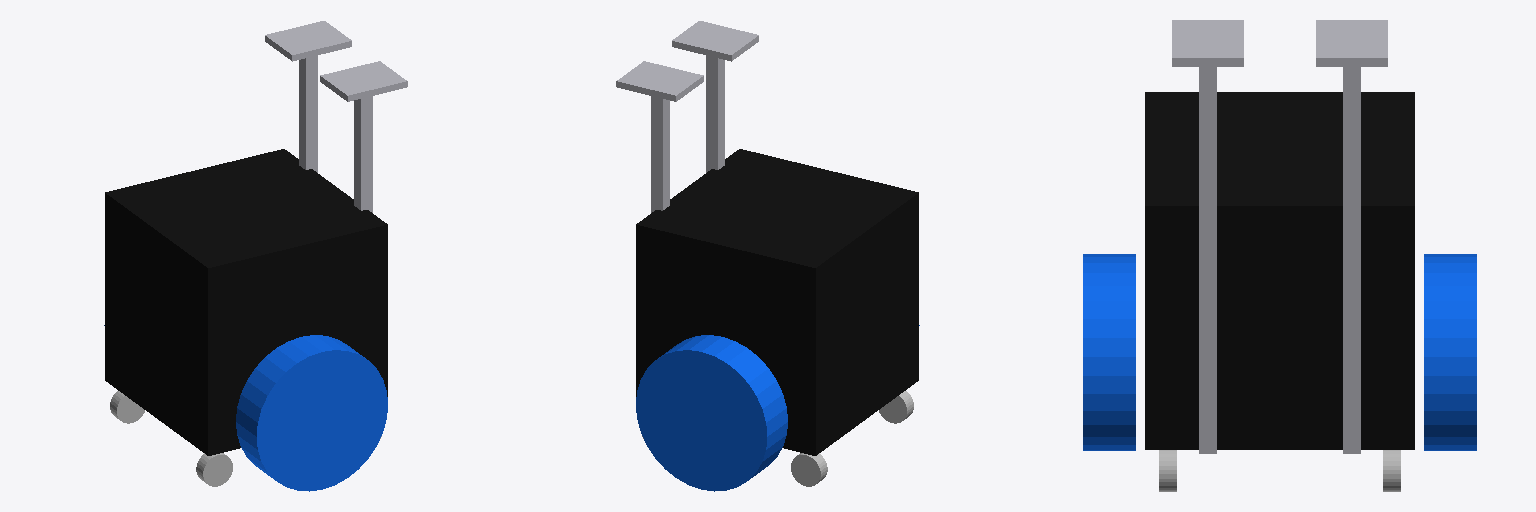
URDF robot description (mobile_base_with_dual_lifts):
<?xml version="1.0"?>
<robot name="mobile_base_with_dual_lifts" xmlns:xacro="http://www.ros.org/wiki/xacro">

  <!-- =========================
       PARAMETERS (hard-coded)
       Base: 0.30 x 0.30 x 0.30 m
       Two front lift columns: 0.50 m tall each
       Wheels: hoverboard style
       ========================= -->

  <!-- MATERIALS -->
  <material name="aluminum">
    <color rgba="0.75 0.75 0.78 1.0"/>
  </material>

  <material name="black">
    <color rgba="0.10 0.10 0.10 1.0"/>
  </material>

  <material name="wheel_blue">
    <color rgba="0.10 0.45 0.95 1.0"/>
  </material>

  <material name="caster_gray">
    <color rgba="0.75 0.75 0.75 1.0"/>
  </material>

  <!-- BASE LINK -->
  <link name="base_link">
    <visual>
      <origin xyz="0 0 0" rpy="0 0 0"/>
      <geometry>
        <box size="0.30 0.30 0.30"/>
      </geometry>
      <material name="black"/>
    </visual>

    <collision>
      <origin xyz="0 0 0" rpy="0 0 0"/>
      <geometry>
        <box size="0.30 0.30 0.30"/>
      </geometry>
    </collision>

    <inertial>
      <origin xyz="0 0 0" rpy="0 0 0"/>
      <mass value="8.0"/>
      <inertia ixx="0.120" ixy="0.0" ixz="0.0" iyy="0.120" iyz="0.0" izz="0.120"/>
    </inertial>
  </link>

  <link name="base_footprint"/>

  <joint name="base_footprint_joint" type="fixed">
    <parent link="base_footprint"/>
    <child link="base_link"/>
    <!-- Keep as-is: base_link center at 0.21m above ground -->
    <origin xyz="0 0 0.21" rpy="0 0 0"/>
  </joint>

  <!-- =========================
       FRONT DUAL LIFT SYSTEM
       ========================= -->

  <!-- LEFT COLUMN CARRIAGE -->
  <link name="lift_left_carriage">
    <visual>
      <origin xyz="0 0 0.25" rpy="0 0 0"/>
      <geometry>
        <box size="0.02 0.02 0.50"/>
      </geometry>
      <material name="aluminum"/>
    </visual>

    <collision>
      <origin xyz="0 0 0.25" rpy="0 0 0"/>
      <geometry>
        <box size="0.02 0.02 0.50"/>
      </geometry>
    </collision>

    <inertial>
      <origin xyz="0 0 0.25" rpy="0 0 0"/>
      <mass value="0.7"/>
      <inertia ixx="0.001" ixy="0.0" ixz="0.0" iyy="0.001" iyz="0.0" izz="0.0002"/>
    </inertial>
  </link>

  <joint name="lift_left_prismatic" type="prismatic">
    <parent link="base_link"/>
    <child link="lift_left_carriage"/>
    <origin xyz="0.15 0.08 -0.15" rpy="0 0 0"/>
    <axis xyz="0 0 1"/>
    <limit lower="0.00" upper="0.40" effort="800" velocity="0.30"/>
    <dynamics damping="10.0" friction="5.0"/>
  </joint>

  <link name="lift_left_mount">
    <visual>
      <origin xyz="0 0 0" rpy="0 0 0"/>
      <geometry>
        <box size="0.10 0.08 0.01"/>
      </geometry>
      <material name="aluminum"/>
    </visual>

    <collision>
      <origin xyz="0 0 0" rpy="0 0 0"/>
      <geometry>
        <box size="0.10 0.08 0.01"/>
      </geometry>
    </collision>

    <inertial>
      <origin xyz="0 0 0" rpy="0 0 0"/>
      <mass value="0.3"/>
      <inertia ixx="0.0002" ixy="0.0" ixz="0.0" iyy="0.0002" iyz="0.0" izz="0.0003"/>
    </inertial>
  </link>

  <joint name="lift_left_mount_fixed" type="fixed">
    <parent link="lift_left_carriage"/>
    <child link="lift_left_mount"/>
    <origin xyz="0 0 0.50" rpy="0 0 0"/>
  </joint>

  <link name="jso800_left_base_frame"/>
  <joint name="jso800_left_base_fixed" type="fixed">
    <parent link="lift_left_mount"/>
    <child link="jso800_left_base_frame"/>
    <origin xyz="0.00 0.00 0.02" rpy="0 0 0"/>
  </joint>

  <!-- RIGHT COLUMN CARRIAGE -->
  <link name="lift_right_carriage">
    <visual>
      <origin xyz="0 0 0.25" rpy="0 0 0"/>
      <geometry>
        <box size="0.02 0.02 0.50"/>
      </geometry>
      <material name="aluminum"/>
    </visual>

    <collision>
      <origin xyz="0 0 0.25" rpy="0 0 0"/>
      <geometry>
        <box size="0.02 0.02 0.50"/>
      </geometry>
    </collision>

    <inertial>
      <origin xyz="0 0 0.25" rpy="0 0 0"/>
      <mass value="0.7"/>
      <inertia ixx="0.001" ixy="0.0" ixz="0.0" iyy="0.001" iyz="0.0" izz="0.0002"/>
    </inertial>
  </link>

  <joint name="lift_right_prismatic" type="prismatic">
    <parent link="base_link"/>
    <child link="lift_right_carriage"/>
    <origin xyz="0.15 -0.08 -0.15" rpy="0 0 0"/>
    <axis xyz="0 0 1"/>
    <limit lower="0.00" upper="0.40" effort="800" velocity="0.30"/>
    <dynamics damping="10.0" friction="5.0"/>
  </joint>

  <link name="lift_right_mount">
    <visual>
      <origin xyz="0 0 0" rpy="0 0 0"/>
      <geometry>
        <box size="0.10 0.08 0.01"/>
      </geometry>
      <material name="aluminum"/>
    </visual>

    <collision>
      <origin xyz="0 0 0" rpy="0 0 0"/>
      <geometry>
        <box size="0.10 0.08 0.01"/>
      </geometry>
    </collision>

    <inertial>
      <origin xyz="0 0 0" rpy="0 0 0"/>
      <mass value="0.3"/>
      <inertia ixx="0.0002" ixy="0.0" ixz="0.0" iyy="0.0002" iyz="0.0" izz="0.0003"/>
    </inertial>
  </link>

  <joint name="lift_right_mount_fixed" type="fixed">
    <parent link="lift_right_carriage"/>
    <child link="lift_right_mount"/>
    <origin xyz="0 0 0.50" rpy="0 0 0"/>
  </joint>

  <link name="jso800_right_base_frame"/>
  <joint name="jso800_right_base_fixed" type="fixed">
    <parent link="lift_right_mount"/>
    <child link="jso800_right_base_frame"/>
    <origin xyz="0.00 0.00 0.02" rpy="0 0 0"/>
  </joint>

  <!-- =========================
       MOBILE BASE WHEELS
       Hoverboard-style drive wheels + 4 caster wheels
       ========================= -->

  <!-- ========= DRIVE WHEELS (2) ========= -->
  <!-- Hoverboard wheel size: radius=0.11 (≈22cm diameter), length=0.06 -->
  <link name="wheel_left">
    <visual>
      <origin xyz="0 0 0" rpy="-1.57079632679 0 0"/>
      <geometry>
        <cylinder radius="0.11" length="0.06"/>
      </geometry>
      <material name="wheel_blue"/>
    </visual>

    <collision>
      <origin xyz="0 0 0" rpy="-1.57079632679 0 0"/>
      <geometry>
        <cylinder radius="0.11" length="0.06"/>
      </geometry>
    </collision>

    <inertial>
      <origin xyz="0 0 0" rpy="0 0 0"/>
      <mass value="1.5"/>
      <inertia ixx="0.003" ixy="0.0" ixz="0.0" iyy="0.003" iyz="0.0" izz="0.003"/>
    </inertial>
  </link>

  <joint name="wheel_left_joint" type="continuous">
    <parent link="base_link"/>
    <child link="wheel_left"/>
    <!-- base_link at z=0.21; wheel center should be at z=0.11 => z_local = -0.10 -->
    <origin xyz="0.00 0.19 -0.10" rpy="0 0 0"/>
    <axis xyz="0 1 0"/>
    <dynamics damping="0.2" friction="0.5"/>
  </joint>

  <link name="wheel_right">
    <visual>
      <origin xyz="0 0 0" rpy="-1.57079632679 0 0"/>
      <geometry>
        <cylinder radius="0.11" length="0.06"/>
      </geometry>
      <material name="wheel_blue"/>
    </visual>

    <collision>
      <origin xyz="0 0 0" rpy="-1.57079632679 0 0"/>
      <geometry>
        <cylinder radius="0.11" length="0.06"/>
      </geometry>
    </collision>

    <inertial>
      <origin xyz="0 0 0" rpy="0 0 0"/>
      <mass value="1.5"/>
      <inertia ixx="0.003" ixy="0.0" ixz="0.0" iyy="0.003" iyz="0.0" izz="0.003"/>
    </inertial>
  </link>

  <joint name="wheel_right_joint" type="continuous">
    <parent link="base_link"/>
    <child link="wheel_right"/>
    <origin xyz="0.00 -0.19 -0.10" rpy="0 0 0"/>
    <axis xyz="0 1 0"/>
    <dynamics damping="0.2" friction="0.5"/>
  </joint>

  <!-- ========= CASTER WHEELS (4) ========= -->
  <!-- Keep casters touching the ground. With base_link at z=0.21, caster radius=0.025 -> z_local = 0.025 - 0.21 = -0.185 -->
  <link name="caster_fl">
    <visual>
      <origin xyz="0 0 0" rpy="-1.57079632679 0 0"/>
      <geometry>
        <cylinder radius="0.025" length="0.02"/>
      </geometry>
      <material name="caster_gray"/>
    </visual>
    <collision>
      <origin xyz="0 0 0" rpy="-1.57079632679 0 0"/>
      <geometry>
        <cylinder radius="0.025" length="0.02"/>
      </geometry>
    </collision>
    <inertial>
      <origin xyz="0 0 0" rpy="0 0 0"/>
      <mass value="0.15"/>
      <inertia ixx="0.00005" ixy="0.0" ixz="0.0" iyy="0.00005" iyz="0.0" izz="0.00005"/>
    </inertial>
  </link>

  <joint name="caster_fl_joint" type="fixed">
    <parent link="base_link"/>
    <child link="caster_fl"/>
    <origin xyz="0.125 0.125 -0.185" rpy="0 0 0"/>
  </joint>

  <link name="caster_fr">
    <visual>
      <origin xyz="0 0 0" rpy="-1.57079632679 0 0"/>
      <geometry>
        <cylinder radius="0.025" length="0.02"/>
      </geometry>
      <material name="caster_gray"/>
    </visual>
    <collision>
      <origin xyz="0 0 0" rpy="-1.57079632679 0 0"/>
      <geometry>
        <cylinder radius="0.025" length="0.02"/>
      </geometry>
    </collision>
    <inertial>
      <origin xyz="0 0 0" rpy="0 0 0"/>
      <mass value="0.15"/>
      <inertia ixx="0.00005" ixy="0.0" ixz="0.0" iyy="0.00005" iyz="0.0" izz="0.00005"/>
    </inertial>
  </link>

  <joint name="caster_fr_joint" type="fixed">
    <parent link="base_link"/>
    <child link="caster_fr"/>
    <origin xyz="0.125 -0.125 -0.185" rpy="0 0 0"/>
  </joint>

  <link name="caster_rl">
    <visual>
      <origin xyz="0 0 0" rpy="-1.57079632679 0 0"/>
      <geometry>
        <cylinder radius="0.025" length="0.02"/>
      </geometry>
      <material name="caster_gray"/>
    </visual>
    <collision>
      <origin xyz="0 0 0" rpy="-1.57079632679 0 0"/>
      <geometry>
        <cylinder radius="0.025" length="0.02"/>
      </geometry>
    </collision>
    <inertial>
      <origin xyz="0 0 0" rpy="0 0 0"/>
      <mass value="0.15"/>
      <inertia ixx="0.00005" ixy="0.0" ixz="0.0" iyy="0.00005" iyz="0.0" izz="0.00005"/>
    </inertial>
  </link>

  <joint name="caster_rl_joint" type="fixed">
    <parent link="base_link"/>
    <child link="caster_rl"/>
    <origin xyz="-0.125 0.125 -0.185" rpy="0 0 0"/>
  </joint>

  <link name="caster_rr">
    <visual>
      <origin xyz="0 0 0" rpy="-1.57079632679 0 0"/>
      <geometry>
        <cylinder radius="0.025" length="0.02"/>
      </geometry>
      <material name="caster_gray"/>
    </visual>
    <collision>
      <origin xyz="0 0 0" rpy="-1.57079632679 0 0"/>
      <geometry>
        <cylinder radius="0.025" length="0.02"/>
      </geometry>
    </collision>
    <inertial>
      <origin xyz="0 0 0" rpy="0 0 0"/>
      <mass value="0.15"/>
      <inertia ixx="0.00005" ixy="0.0" ixz="0.0" iyy="0.00005" iyz="0.0" izz="0.00005"/>
    </inertial>
  </link>

  <joint name="caster_rr_joint" type="fixed">
    <parent link="base_link"/>
    <child link="caster_rr"/>
    <origin xyz="-0.125 -0.125 -0.185" rpy="0 0 0"/>
  </joint>

</robot>

--- What the picture shows (computed from the rendered views, not written in the file) ---
The picture shows the robot from 3 angles, left to right: view 1: azimuth 30°, elevation 25°; view 2: azimuth 150°, elevation 25°; view 3: azimuth 270°, elevation 25°; orthographic projection.
Model mobile_base_with_dual_lifts with 14 links and 13 joints (2 continuous, 2 prismatic, 9 fixed), rooted at base_footprint, posed every joint at zero.
Visible links, largest first — view 1: base_link, wheel_right, lift_right_mount, lift_left_mount, lift_left_carriage, lift_right_carriage, caster_rr, caster_rl; view 2: base_link, wheel_left, lift_left_mount, lift_right_mount, lift_right_carriage, lift_left_carriage, caster_rl, caster_rr; view 3: base_link, wheel_left, wheel_right, lift_left_carriage, lift_right_carriage, lift_left_mount, lift_right_mount, caster_fl, caster_fr.
Boxes of the visible links, x1,y1,x2,y2 form: base_link: [105, 149, 387, 455]; wheel_right: [236, 335, 387, 491]; lift_right_mount: [320, 61, 407, 101]; lift_left_mount: [265, 21, 351, 61]; lift_left_carriage: [299, 55, 317, 172]; lift_right_carriage: [354, 96, 372, 212]; caster_rr: [196, 453, 232, 486]; caster_rl: [110, 391, 144, 423]; base_link: [636, 149, 918, 455]; wheel_left: [636, 335, 787, 491]; lift_left_mount: [616, 61, 703, 101]; lift_right_mount: [672, 21, 758, 61]; lift_right_carriage: [706, 55, 724, 172]; lift_left_carriage: [651, 96, 669, 212]; caster_rl: [791, 453, 827, 486]; caster_rr: [879, 391, 913, 423]; base_link: [1145, 92, 1414, 449]; wheel_left: [1424, 254, 1476, 450]; wheel_right: [1083, 254, 1135, 450]; lift_left_carriage: [1343, 67, 1360, 453]; lift_right_carriage: [1199, 67, 1216, 453]; lift_left_mount: [1316, 20, 1387, 66]; lift_right_mount: [1172, 20, 1243, 66]; caster_fl: [1383, 450, 1400, 491]; caster_fr: [1159, 450, 1176, 491].
Bounding box of the posed robot: 0.35 × 0.44 × 0.565 m (x, y, z).
Geometry: primitives only (box / cylinder / sphere), no mesh files.
